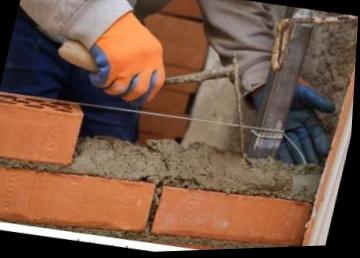brick: (0, 151, 159, 246), (151, 178, 314, 252), (0, 98, 86, 171)
